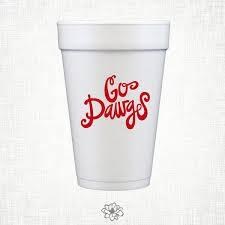Plastic cup: (40, 13, 187, 194)
